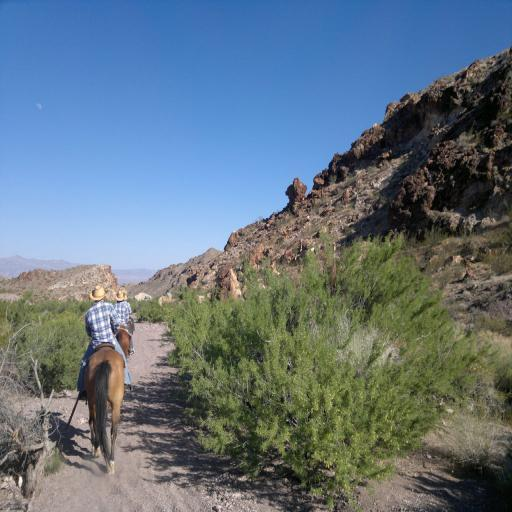horse: (84, 350, 124, 476), (116, 328, 131, 358)
